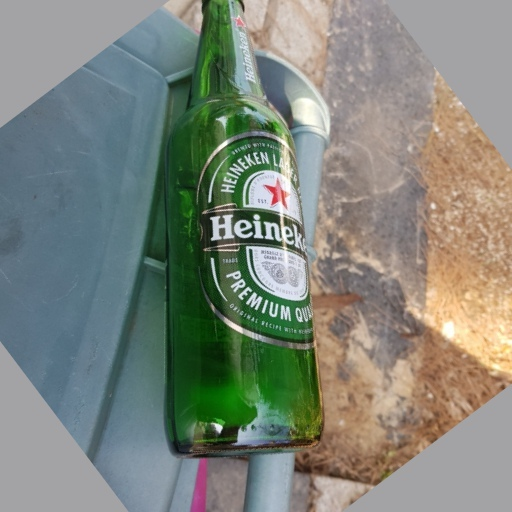Glass_1: (164, 1, 325, 463)
